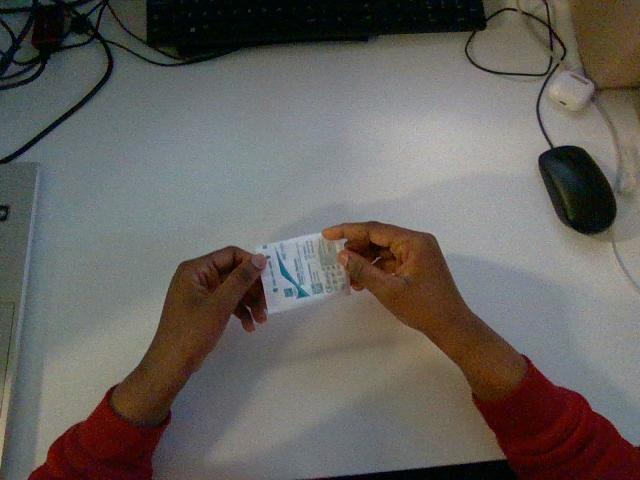gauze: (255, 234, 349, 312)
